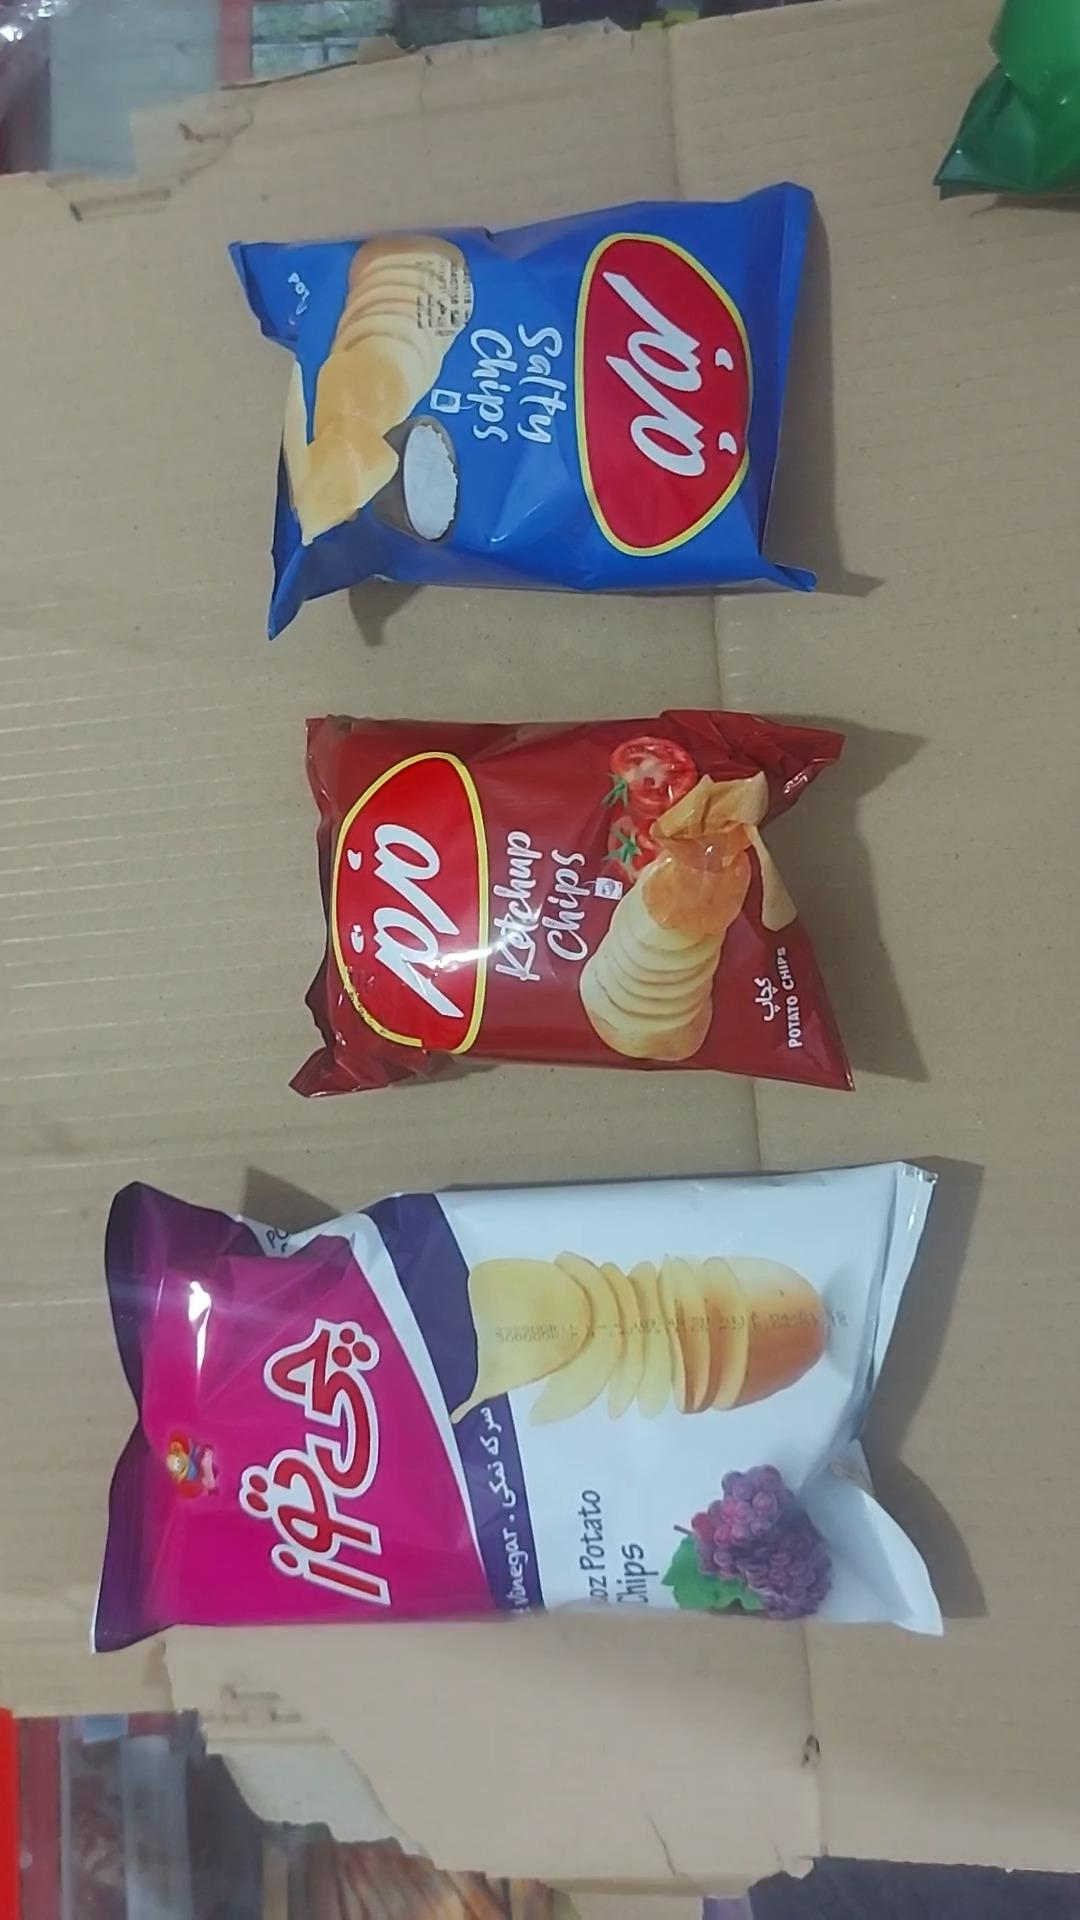Cheetoz vinegar chips: (91, 1163, 944, 1656)
Maz Maz ketchup chips: (287, 709, 855, 1102)
Maz Maz salty chips: (227, 183, 819, 644)
